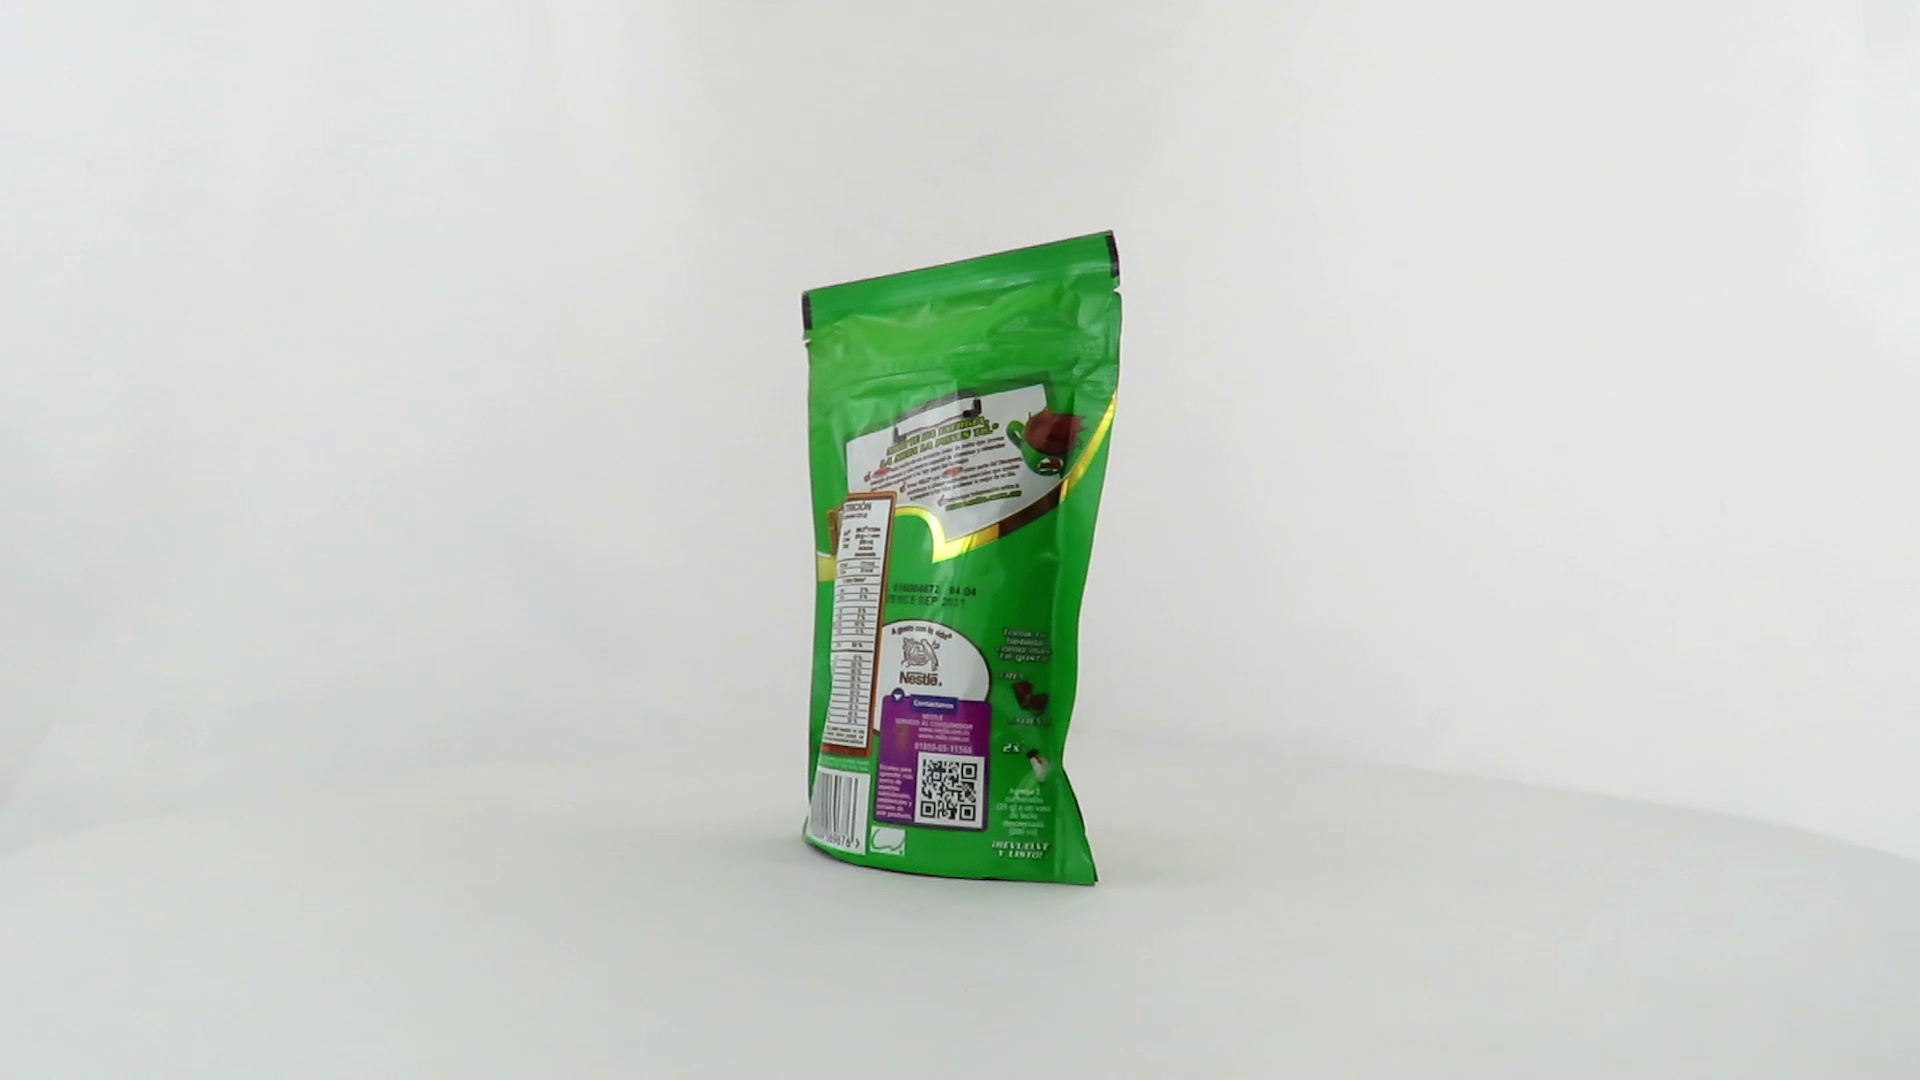COL0170203DYP10000: (796, 225, 1129, 893)
